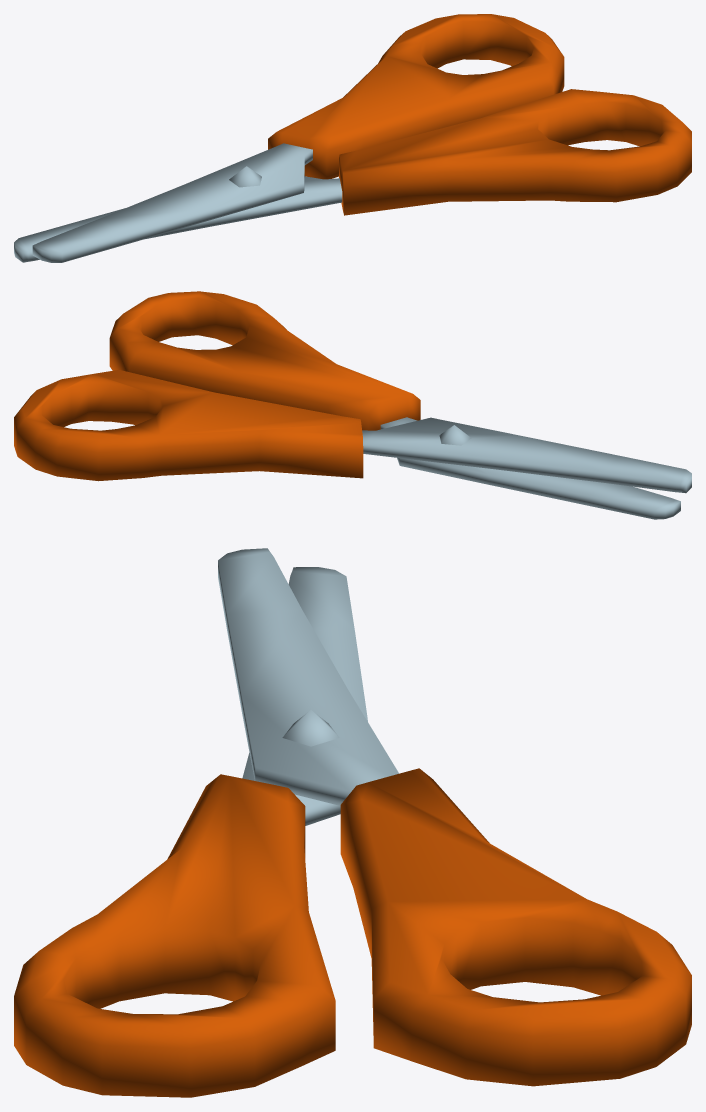
Rendered from child_scissor.fbx.
3 views of the same model, one above another, from view 1: azimuth 30°, elevation 25°; view 2: azimuth 150°, elevation 25°; view 3: azimuth 270°, elevation 25° (orthographic). The views are drawn at different scales.
Visible parts, largest first — view 1: child_scissor_R, child_scissor_L, child_scissor_pin; view 2: child_scissor_L, child_scissor_R, child_scissor_pin; view 3: child_scissor_L, child_scissor_R, child_scissor_pin.
Part boxes in pixels (x1=…): child_scissor_R: x1=14, y1=89, x2=691, y2=262; child_scissor_L: x1=32, y1=14, x2=564, y2=262; child_scissor_pin: x1=229, y1=166, x2=261, y2=187; child_scissor_L: x1=14, y1=370, x2=691, y2=493; child_scissor_R: x1=109, y1=291, x2=680, y2=519; child_scissor_pin: x1=439, y1=425, x2=471, y2=445; child_scissor_L: x1=218, y1=548, x2=691, y2=1086; child_scissor_R: x1=14, y1=567, x2=367, y2=1097; child_scissor_pin: x1=282, y1=710, x2=339, y2=746.
Bounding box in the file's own units: 78 × 6.34 × 44.36.
